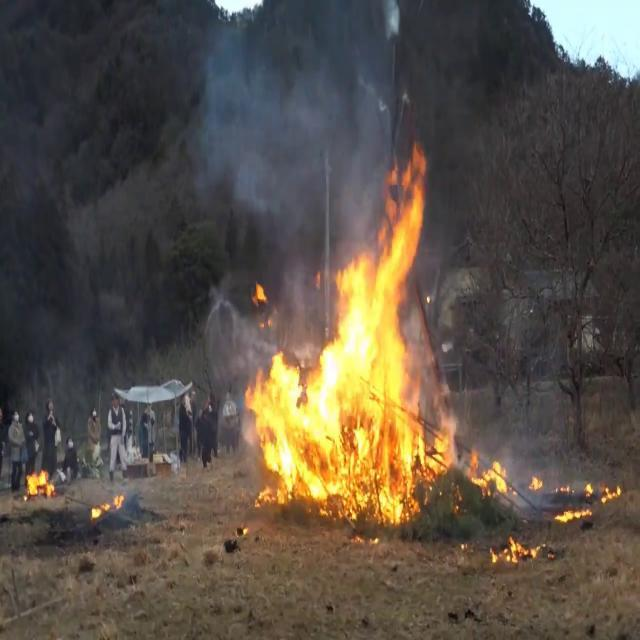Fire: (239, 143, 457, 526), (555, 469, 629, 524), (458, 437, 518, 497), (494, 531, 540, 568), (91, 489, 126, 524), (22, 464, 56, 498)
Smoke: (196, 0, 406, 311)
